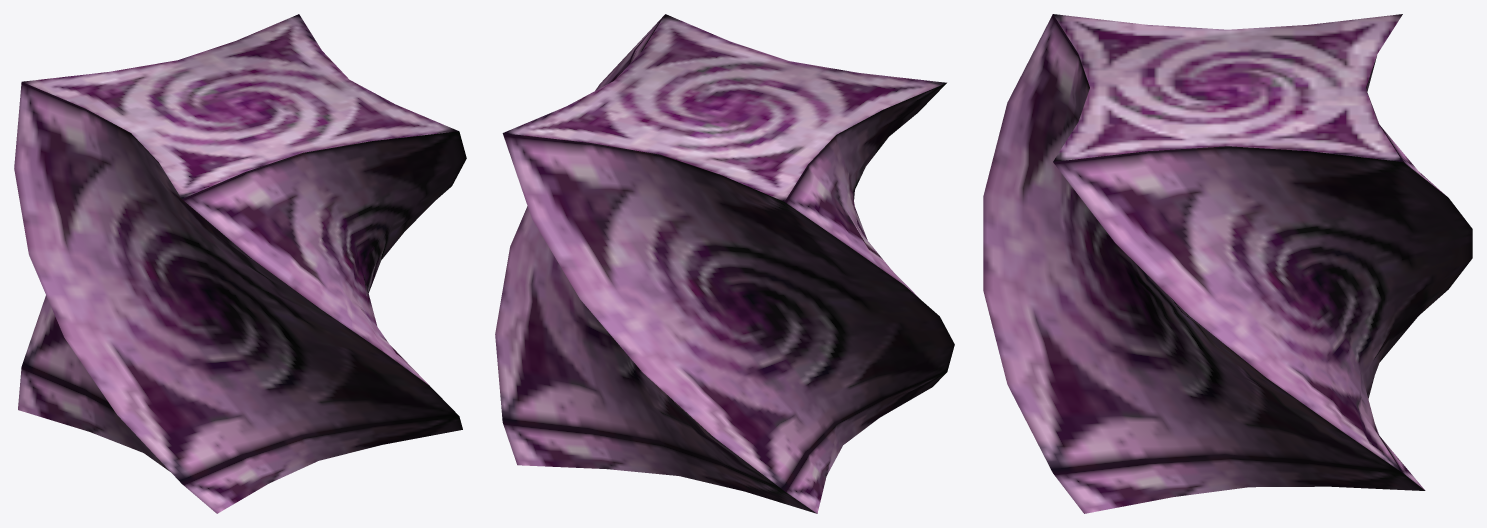
The model's file is PEDISTAL2.fbx.
3 renders of one model, left to right at view 1: azimuth 30°, elevation 25°; view 2: azimuth 150°, elevation 25°; view 3: azimuth 270°, elevation 25°, orthographic. The views are drawn at different scales.
Parts seen in each view (by area): view 1: PEDISTAL2; view 2: PEDISTAL2; view 3: PEDISTAL2.
Part boxes in pixels (x1=…): PEDISTAL2: x1=14, y1=14, x2=466, y2=513; PEDISTAL2: x1=495, y1=14, x2=954, y2=513; PEDISTAL2: x1=983, y1=14, x2=1472, y2=513.
Size of the model in its own units: 14277 by 11026 by 14277.
1 material, 1 textured.
